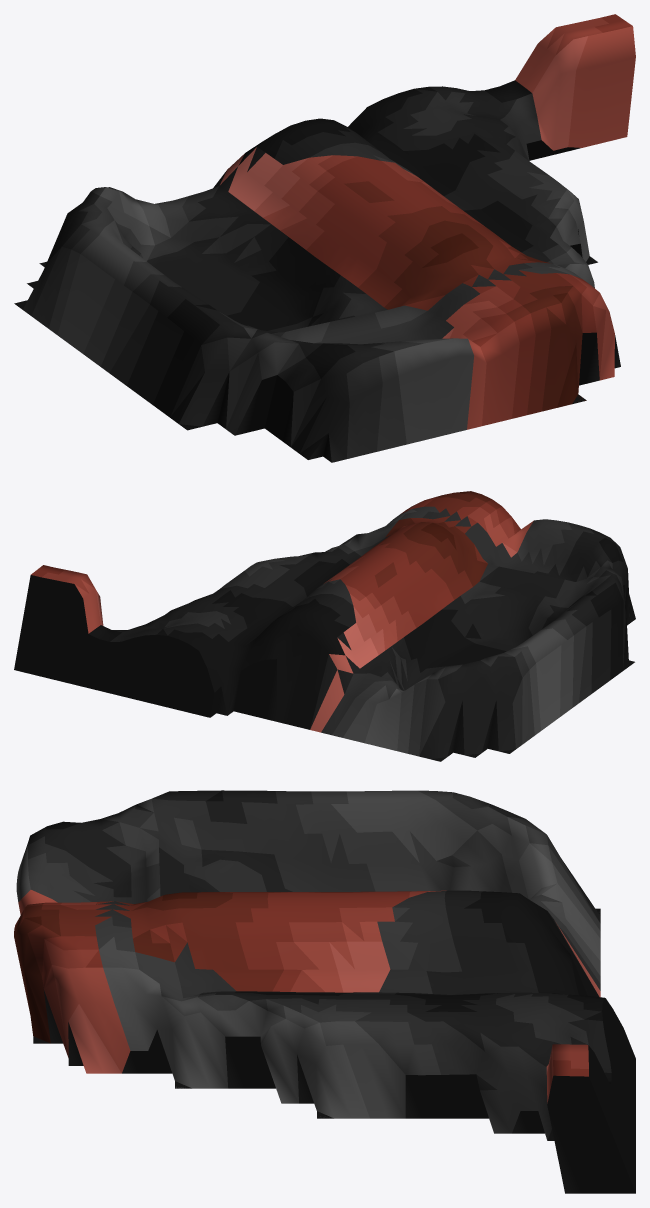
Rendered from brick_bulb_bl_wreck.glb.
3 views of the same model, one above another, from view 1: azimuth 30°, elevation 25°; view 2: azimuth 150°, elevation 25°; view 3: azimuth 270°, elevation 25° (orthographic). The views are drawn at different scales.
Parts seen in each view (by area): view 1: brick_bulb_bl_wreck; view 2: brick_bulb_bl_wreck; view 3: brick_bulb_bl_wreck.
Boxes of the visible parts, x1,y1,x2,y2 form: brick_bulb_bl_wreck: [14, 14, 635, 462]; brick_bulb_bl_wreck: [14, 491, 635, 761]; brick_bulb_bl_wreck: [14, 790, 635, 1193].
Size of the model in its own units: 21 by 3.84 by 17.54.
